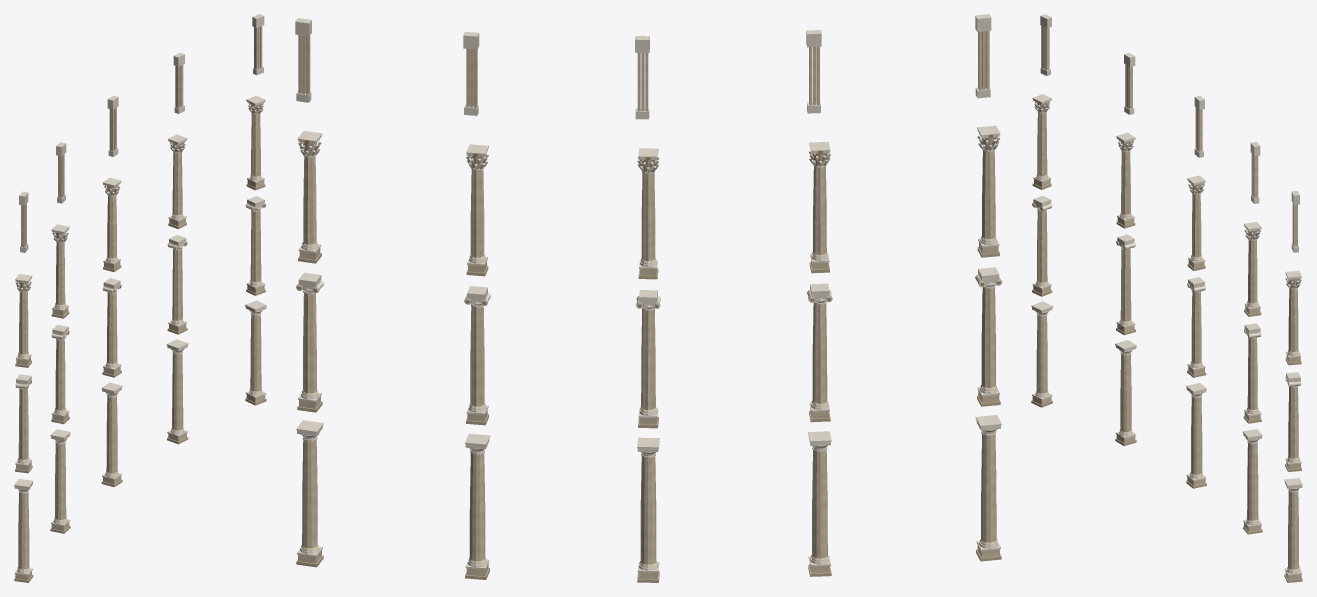
The model's file is COL_ColumnOrders_O6.obj.
The picture shows the model from 3 angles, left to right: view 1: azimuth 30°, elevation 25°; view 2: azimuth 150°, elevation 25°; view 3: azimuth 270°, elevation 25°; orthographic projection. The views are drawn at different scales.
Parts seen in each view (by area): view 1: COL_ColumnOrders_O6; view 2: COL_ColumnOrders_O6; view 3: COL_ColumnOrders_O6.
Boxes of the visible parts, x1,y1,x2,y2 form: COL_ColumnOrders_O6: (14,14,266,582); COL_ColumnOrders_O6: (295,14,1002,582); COL_ColumnOrders_O6: (1031,14,1302,582).
Bounding box in the file's own units: 59.53 × 58.2 × 36.96.
4 materials, 4 textured.
